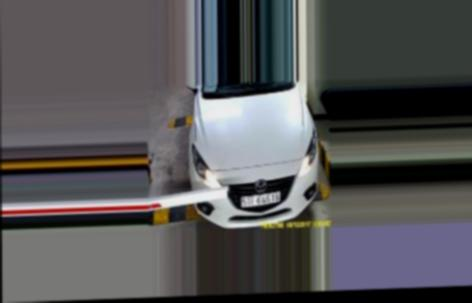License_Plate: (238, 189, 284, 209)
